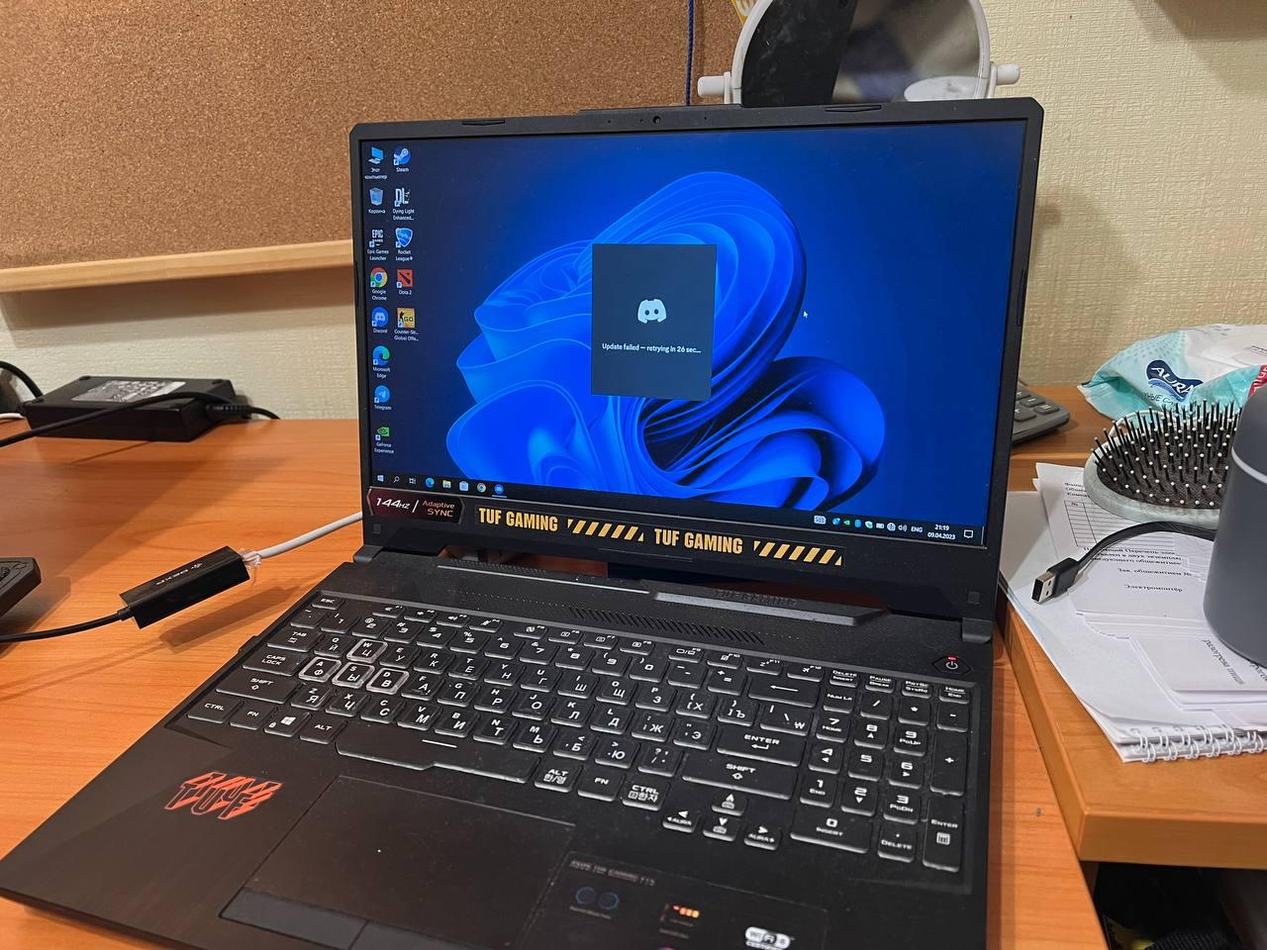monitor: (342, 95, 1048, 628)
